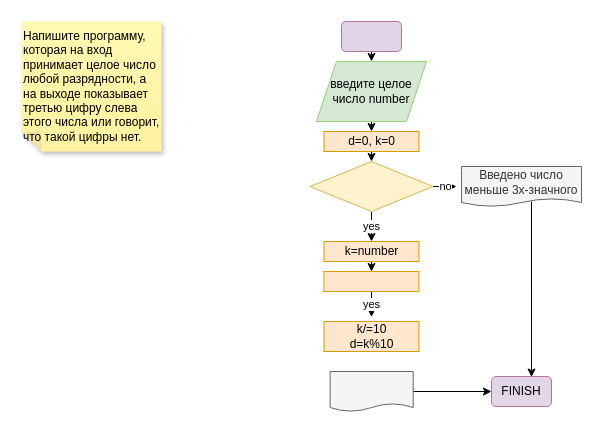
Some shapes in this 599 by 429 pixel diagram are drawn without their labels. Here are the shapes that lost their labels. From the top down, the centre of each, then its label:
At (x=371, y=36): "START".
At (x=371, y=186): "number > 99".
At (x=371, y=281): "k>=1000".
At (x=371, y=391): "Третья цифра слева - d".
